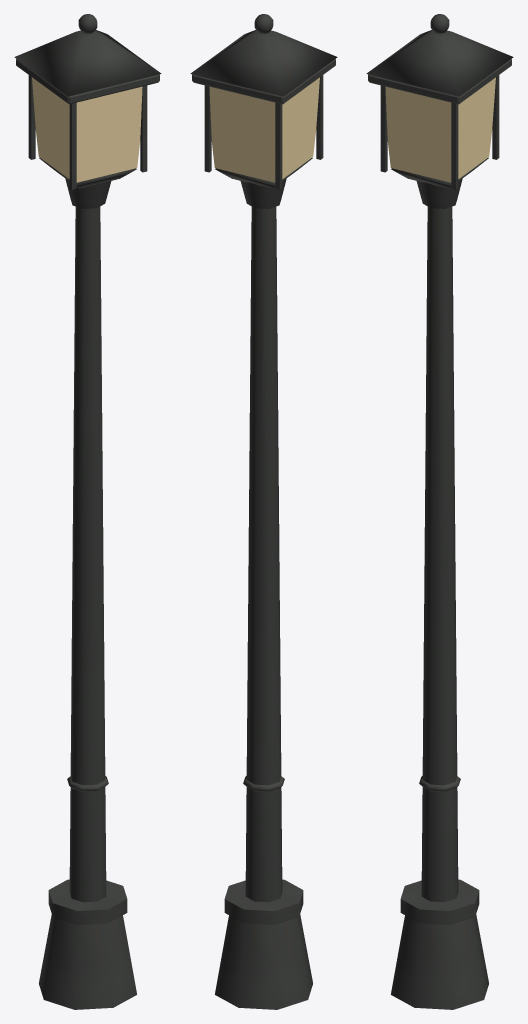
File: OB_Latarnia.fbx
3 views of the same model, side by side, from view 1: azimuth 30°, elevation 25°; view 2: azimuth 150°, elevation 25°; view 3: azimuth 330°, elevation 25° (orthographic).
Parts seen in each view (by area): view 1: Slup, Klosz; view 2: Slup, Klosz; view 3: Slup, Klosz.
Boxes of the visible parts, x1,y1,x2,y2 form: Slup: [14, 14, 161, 1009]; Klosz: [32, 77, 142, 182]; Slup: [190, 14, 337, 1009]; Klosz: [209, 77, 319, 182]; Slup: [366, 14, 513, 1009]; Klosz: [385, 77, 495, 182].
Size of the model in its own units: 0.4243 by 4.22 by 0.4243.
